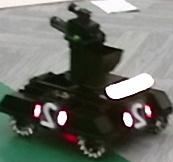armor_2: (34, 104, 68, 126), (122, 105, 152, 127)
light: (106, 73, 155, 100)
